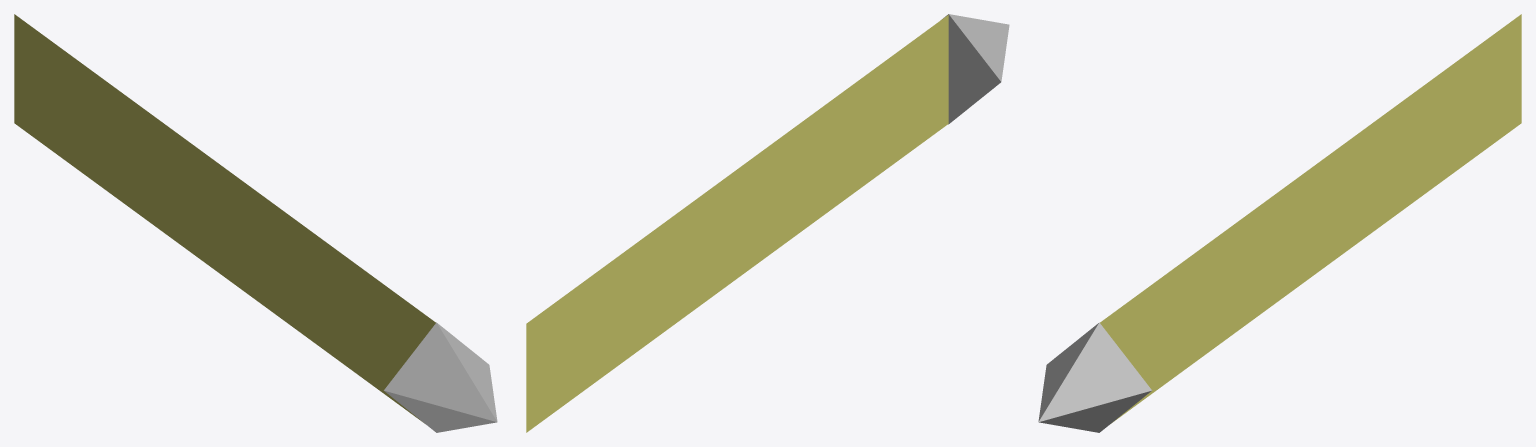
Rendered from Wind_ribbon.fbx.
3 renders of one model, left to right at view 1: azimuth 30°, elevation 25°; view 2: azimuth 150°, elevation 25°; view 3: azimuth 330°, elevation 25°, orthographic.
Visible parts, largest first — view 1: mesh_ribbon, mesh_point; view 2: mesh_ribbon, mesh_point; view 3: mesh_ribbon, mesh_point.
Boxes of the visible parts, x1,y1,x2,y2 form: mesh_ribbon: [14, 14, 435, 423]; mesh_point: [384, 322, 497, 432]; mesh_ribbon: [526, 15, 948, 432]; mesh_point: [943, 14, 1009, 124]; mesh_ribbon: [1100, 14, 1521, 423]; mesh_point: [1038, 322, 1151, 432].
Bounding box in the file's own units: 1.01 × 1.01 × 8.01.
